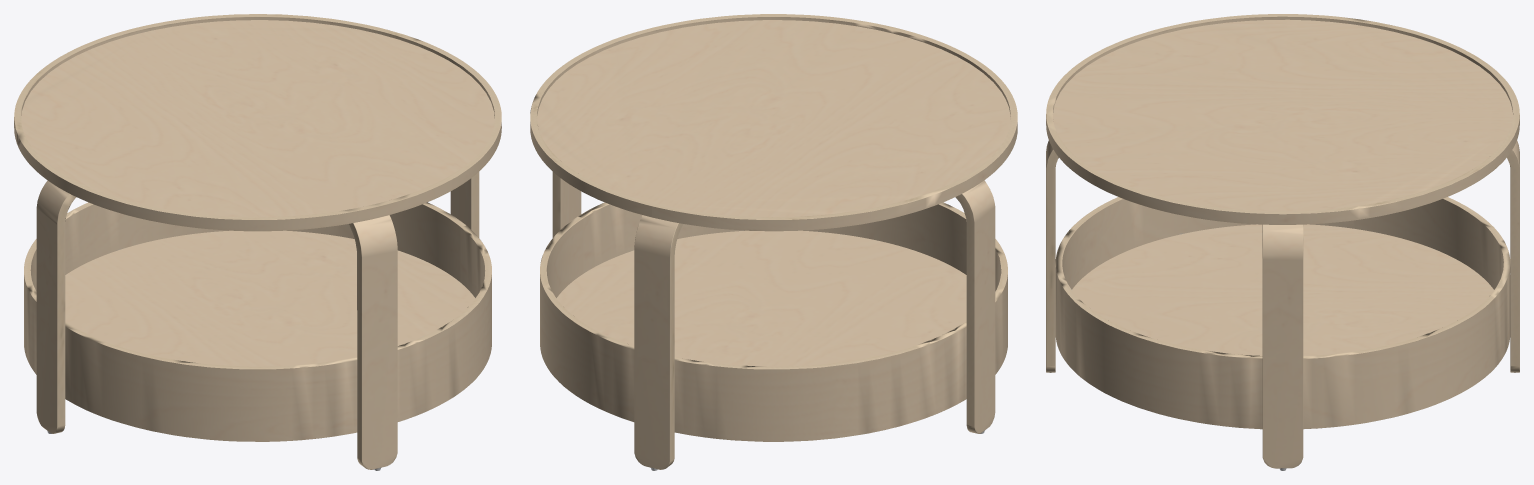
File: 14 - BORGEBY Coffee table - birch veneer 70 cm.glb
The picture shows the model from 3 angles, left to right: view 1: azimuth 30°, elevation 25°; view 2: azimuth 150°, elevation 25°; view 3: azimuth 270°, elevation 25°; orthographic projection. The views are drawn at different scales.
Parts seen in each view (by area): view 1: Mesh_0; view 2: Mesh_0; view 3: Mesh_0.
Boxes of the visible parts, bbox=[...] form: Mesh_0: bbox=[14, 14, 501, 470]; Mesh_0: bbox=[530, 14, 1017, 470]; Mesh_0: bbox=[1046, 14, 1519, 470].
Bounding box in the file's own units: 0.7 × 0.42 × 0.7.
1 material, 1 textured.
